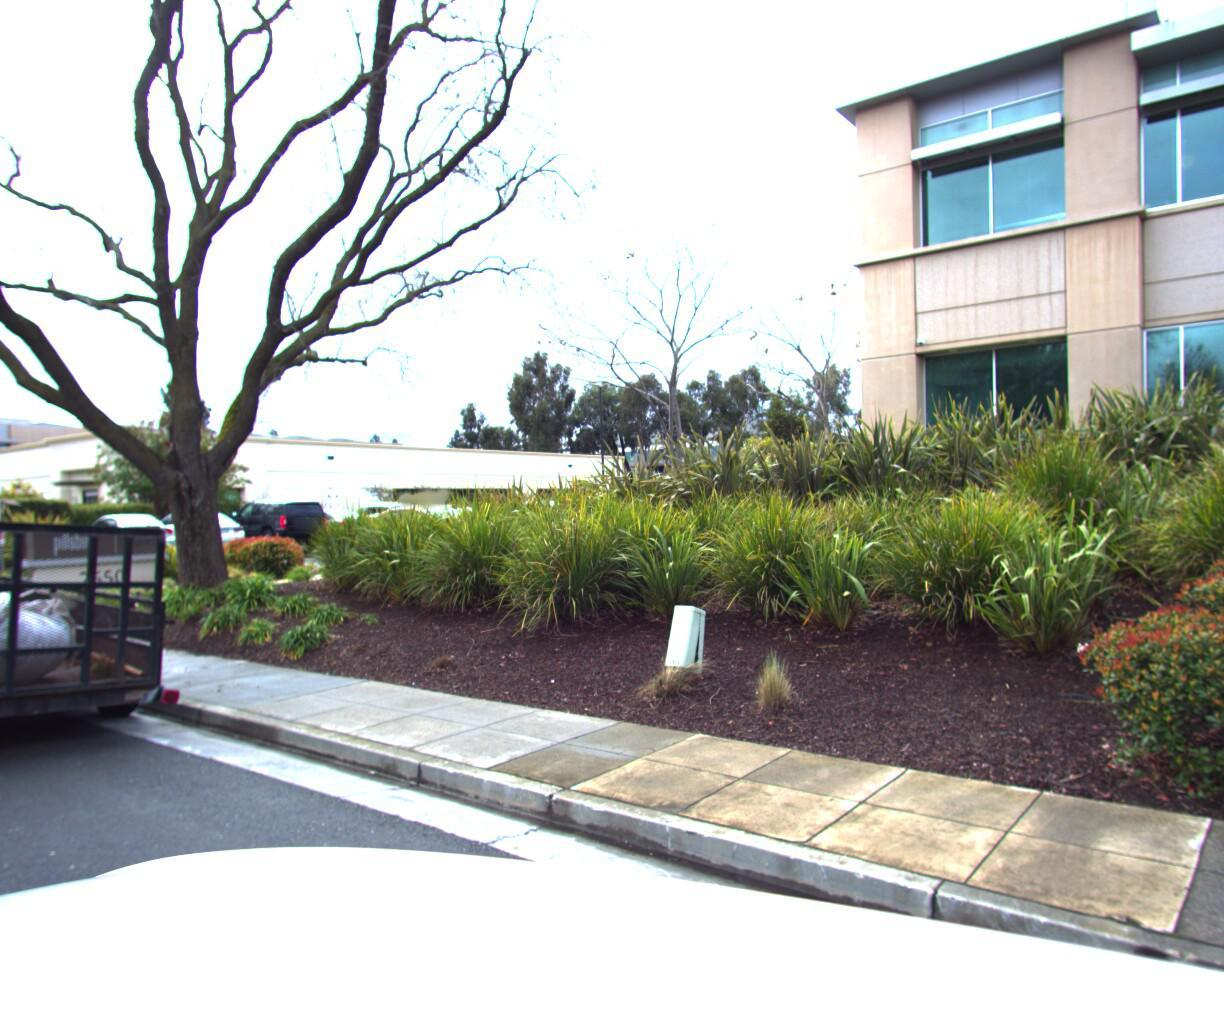car: (0, 467, 230, 789), (80, 511, 187, 559)
